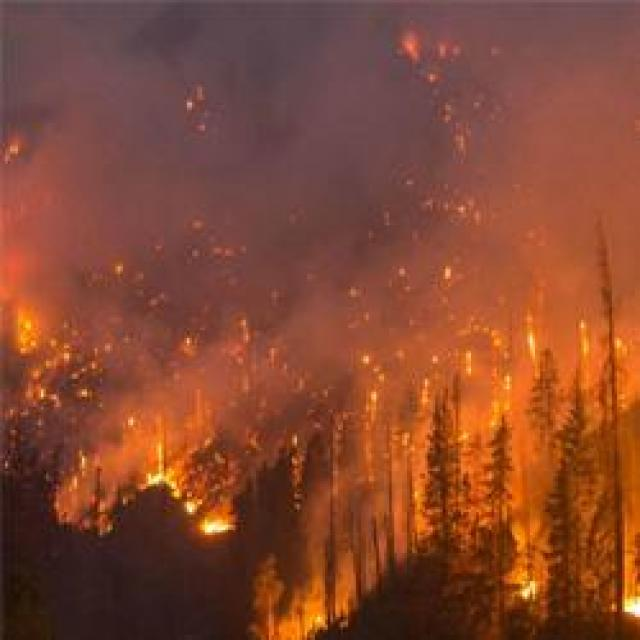fire: (10, 310, 45, 355), (200, 513, 227, 537), (622, 594, 640, 622), (143, 471, 170, 484)
smoke: (491, 112, 637, 202), (2, 163, 88, 269), (296, 292, 346, 364)
